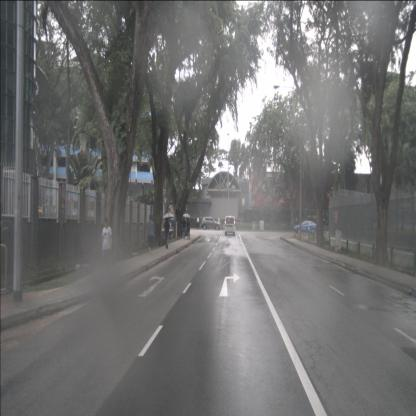human-pedestrian-adult: (101, 217, 112, 275), (163, 212, 174, 250), (146, 214, 154, 254), (183, 213, 190, 240), (182, 217, 186, 239), (218, 216, 221, 230), (196, 216, 199, 230)
vehicle-car: (294, 220, 318, 234), (200, 216, 222, 231), (224, 216, 236, 235)
